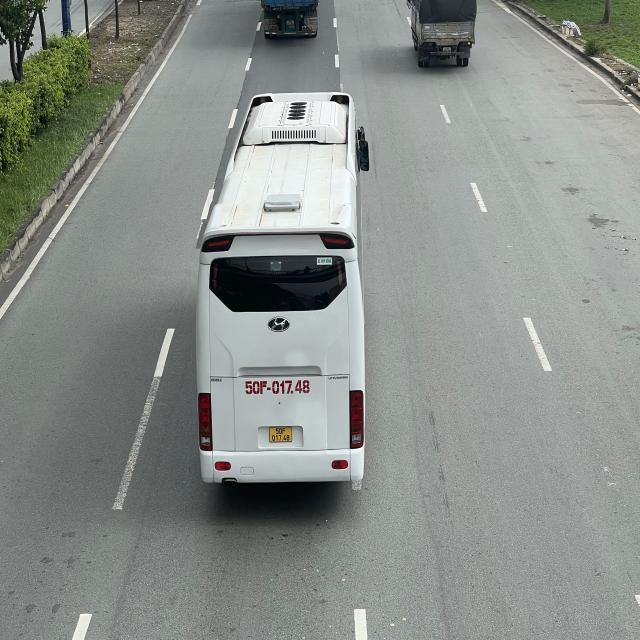coach: (197, 91, 370, 491)
truck: (405, 0, 478, 67)
